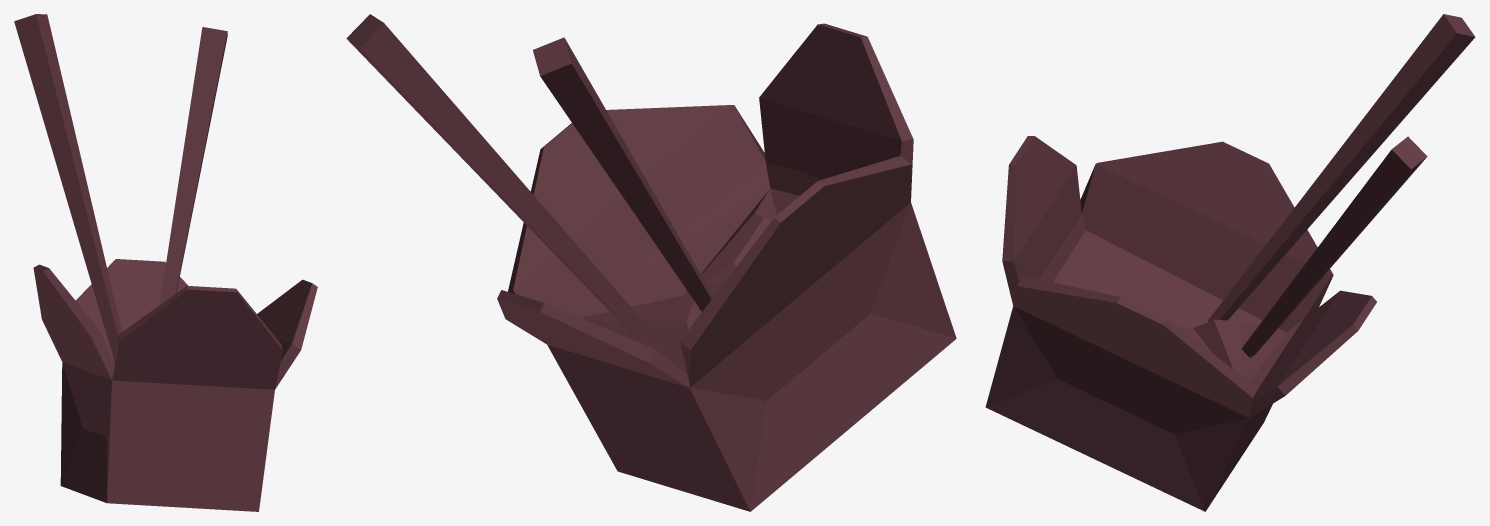
The model's file is scifi-scifi-hologram-food.glb.
The picture shows the model from 3 angles, left to right: view 1: azimuth 30°, elevation 25°; view 2: azimuth 150°, elevation 25°; view 3: azimuth 270°, elevation 25°; orthographic projection. The views are drawn at different scales.
Parts seen in each view (by area): view 1: scifi-hologram-food; view 2: scifi-hologram-food; view 3: scifi-hologram-food.
Boxes of the visible parts, box(x1,y1,x2,y2) form: scifi-hologram-food: box(14, 14, 317, 511); scifi-hologram-food: box(346, 14, 956, 511); scifi-hologram-food: box(985, 14, 1475, 511).
Bounding box in the file's own units: 2.45 × 3.41 × 3.28.
